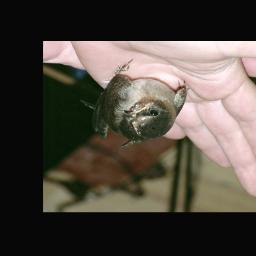Swallow: (77, 56, 190, 149)
